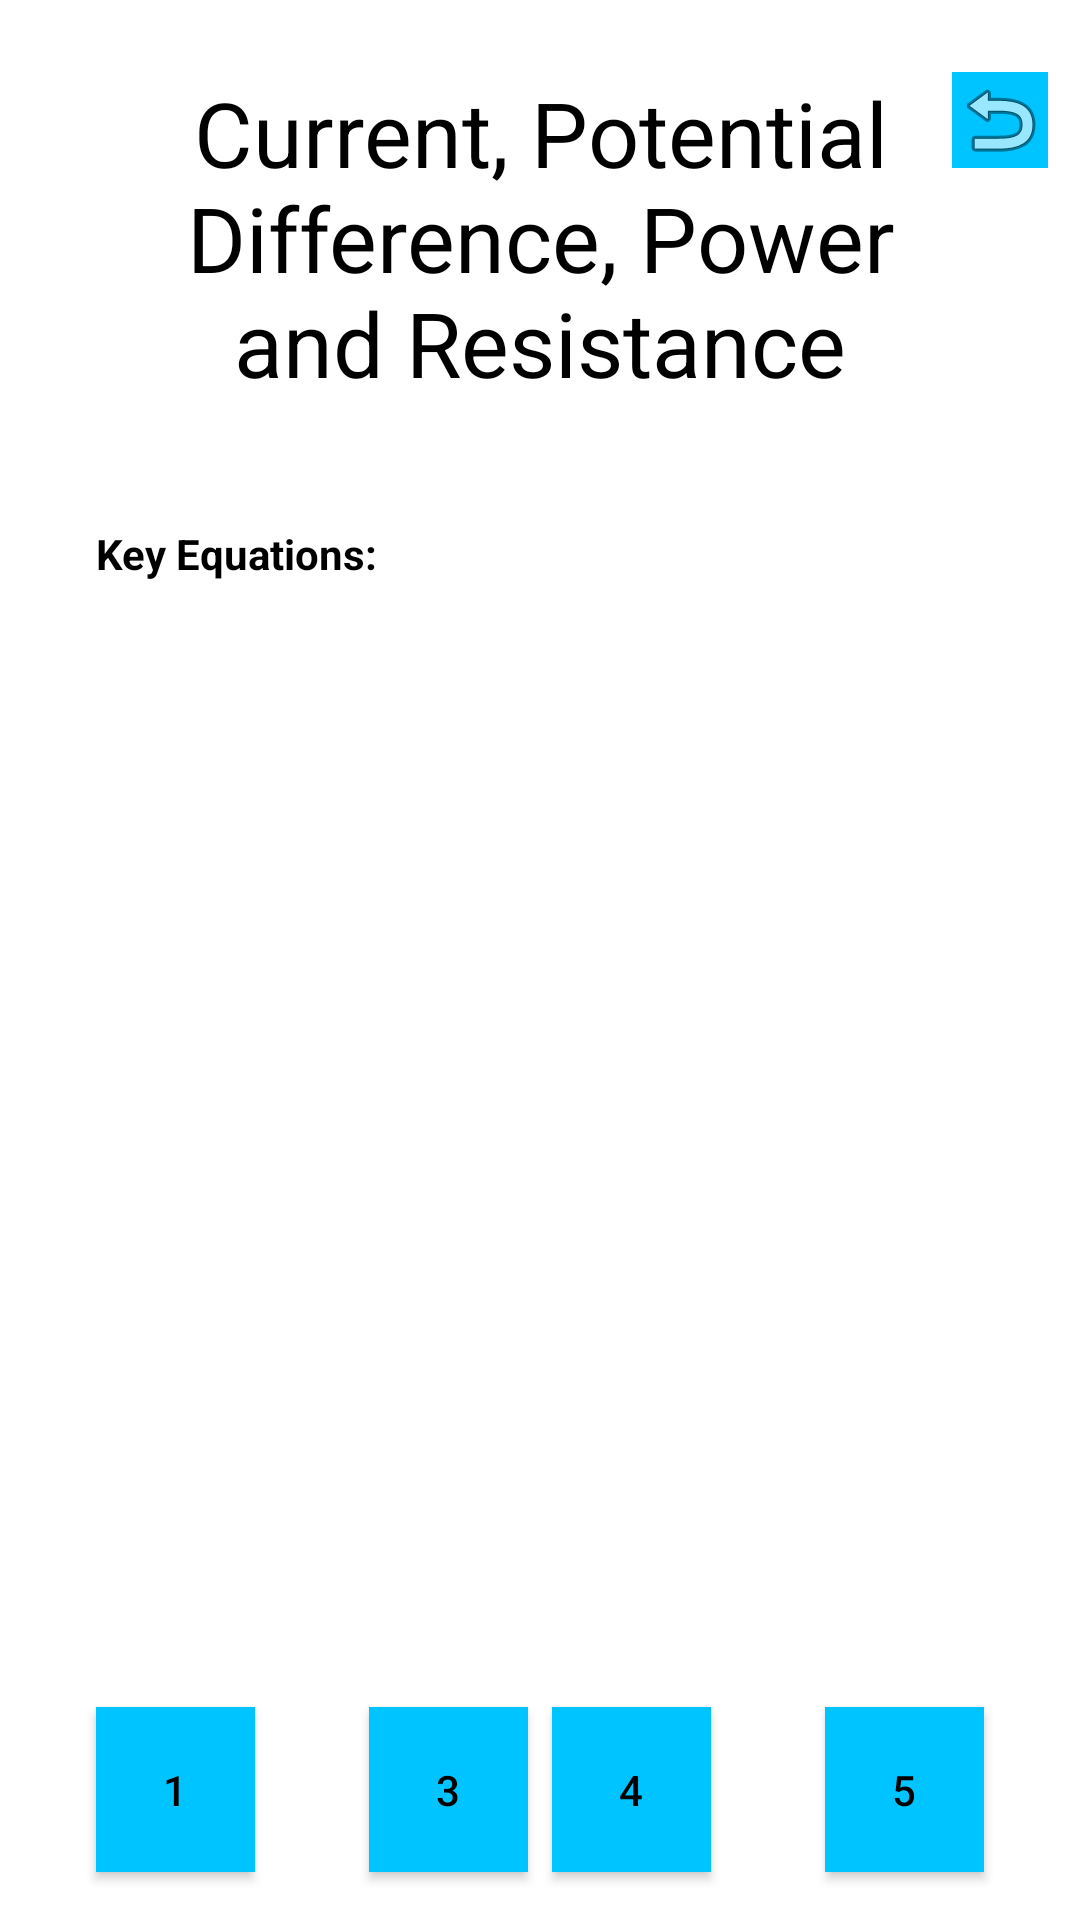

Where to tap for icons on this 1080 × 1920 app screen, as (x=x, y=y):
revert: (x=1000, y=120)
